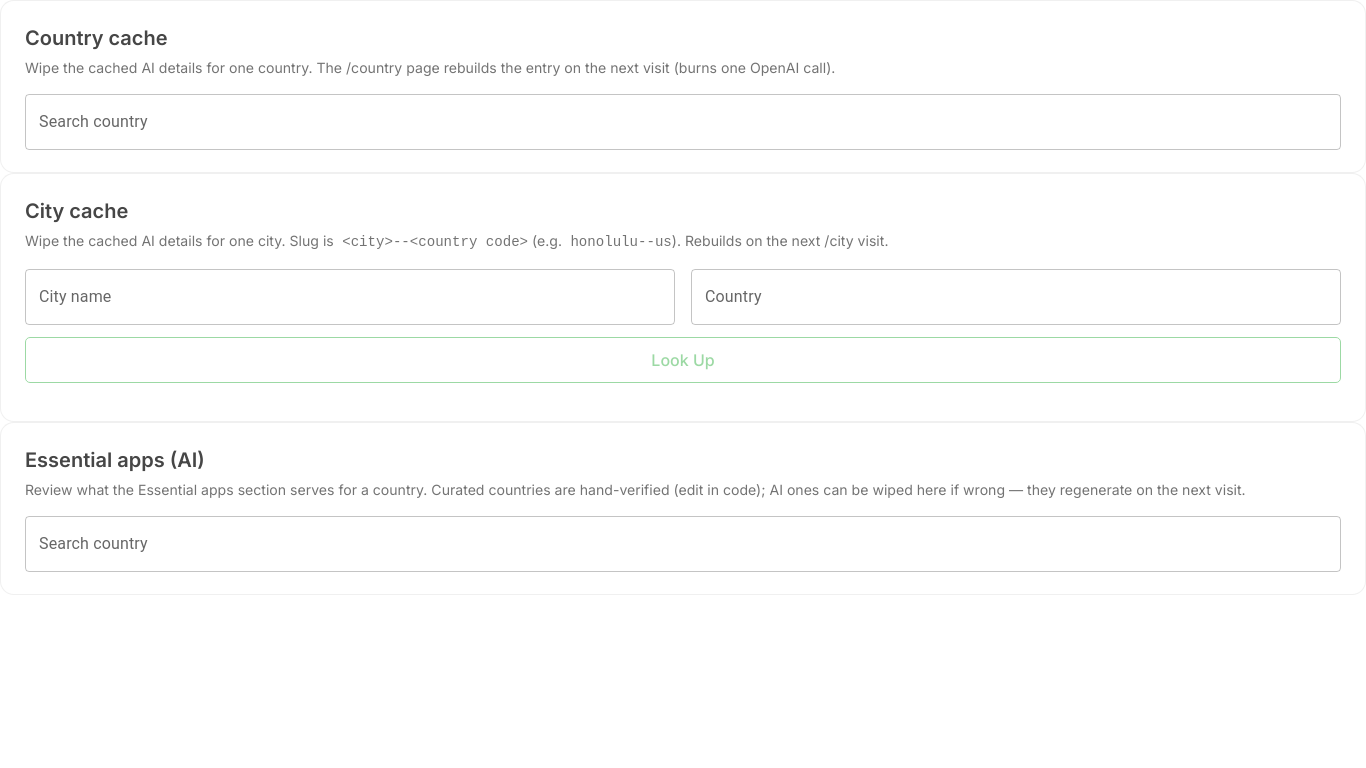
CacheCard — country section › shows a loading-status indicator before the status resolves
This screenshot has width=1366, height=768.
In the field with placeholder "Type a country name…" below "Country cache": (683, 122) [25, 94, 1341, 150], type "Japan"
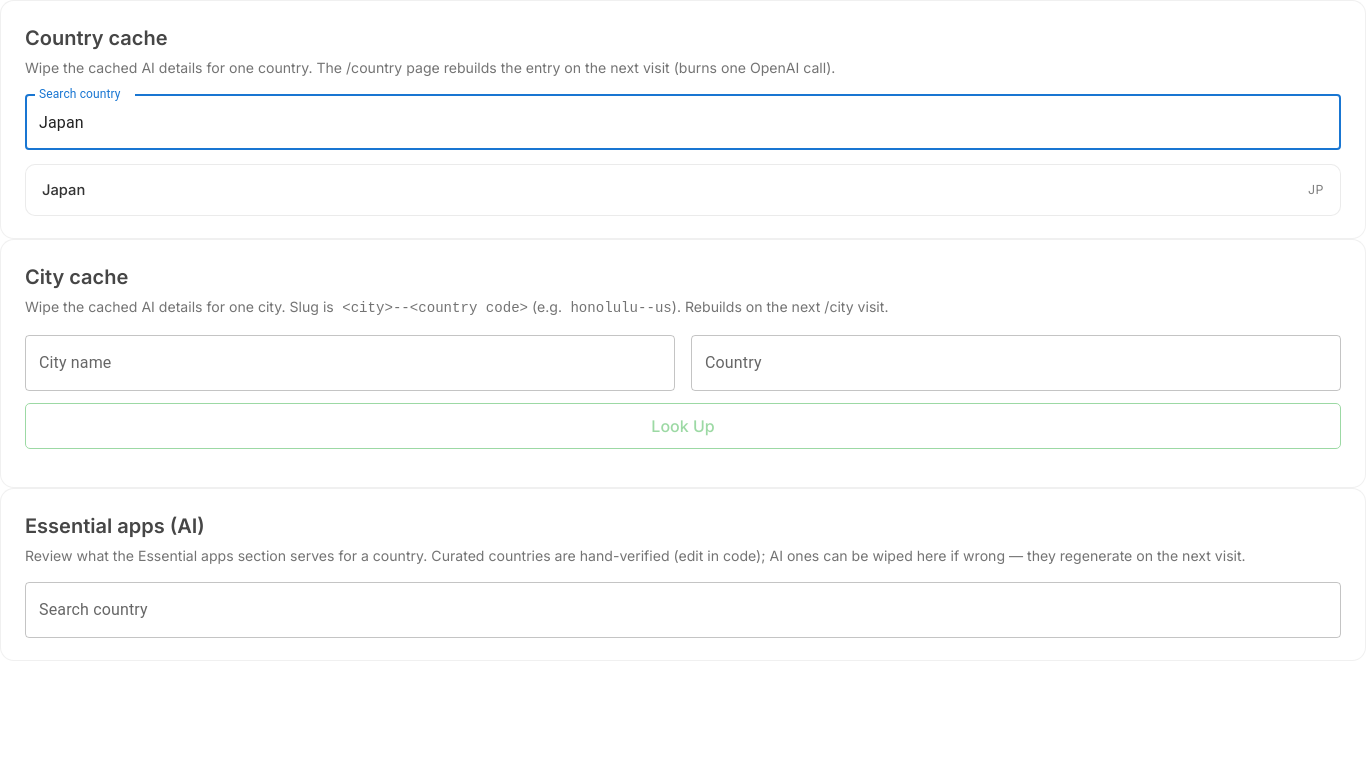
Click the button "Japan JP": click(64, 190) [32, 171, 1334, 209]
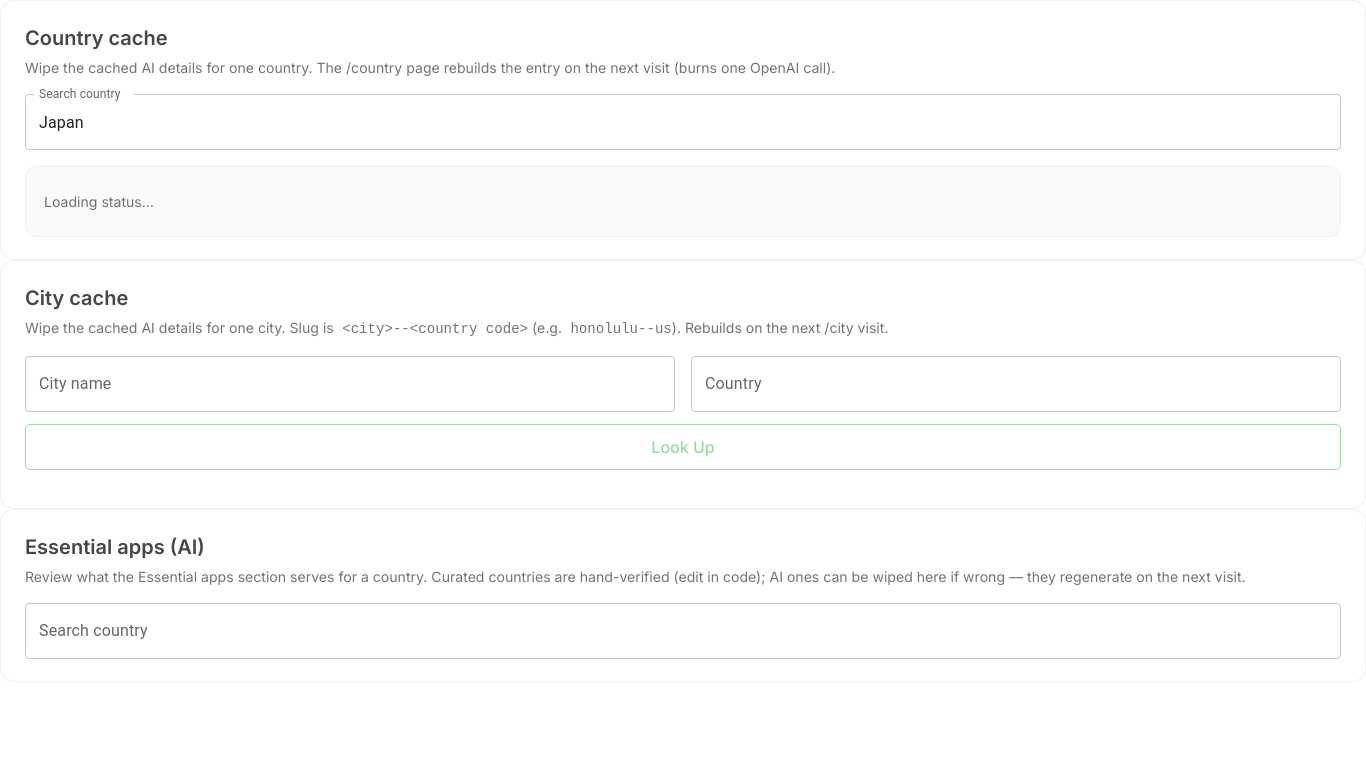
Expected: the text "Loading status…" is shown, [44, 193, 154, 210]
